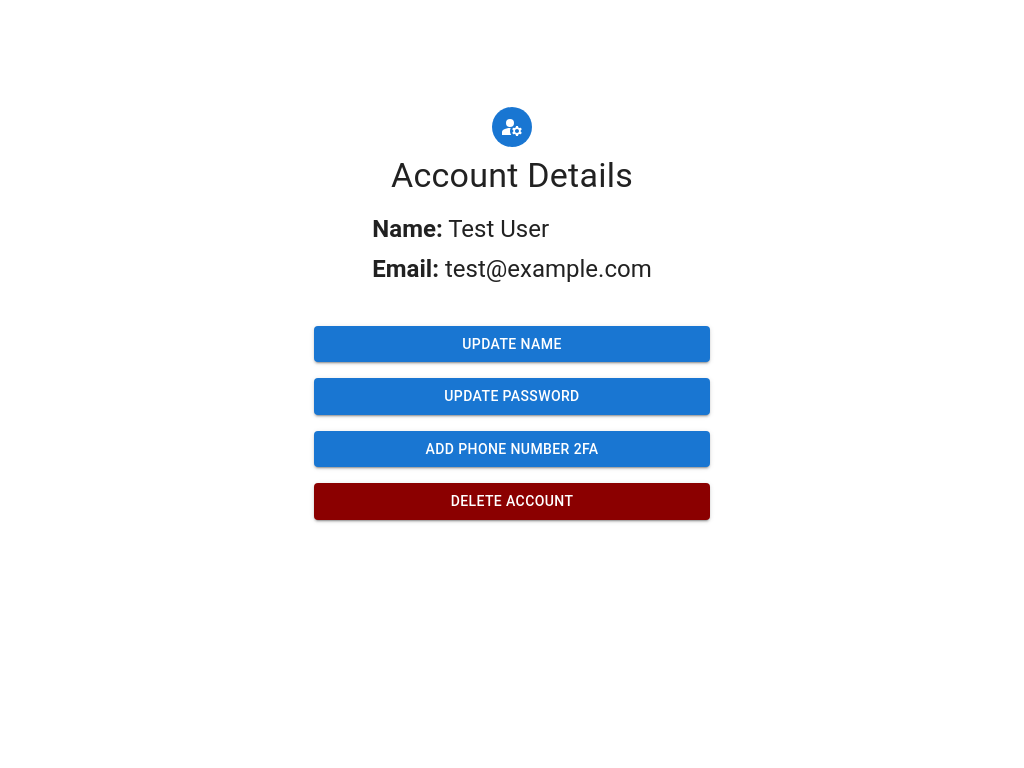
Test: AccountDetails component › updates password on button click
This screenshot has width=1024, height=768.
Click the button "Update Password".
click(512, 397)  # box [314, 378, 710, 415]
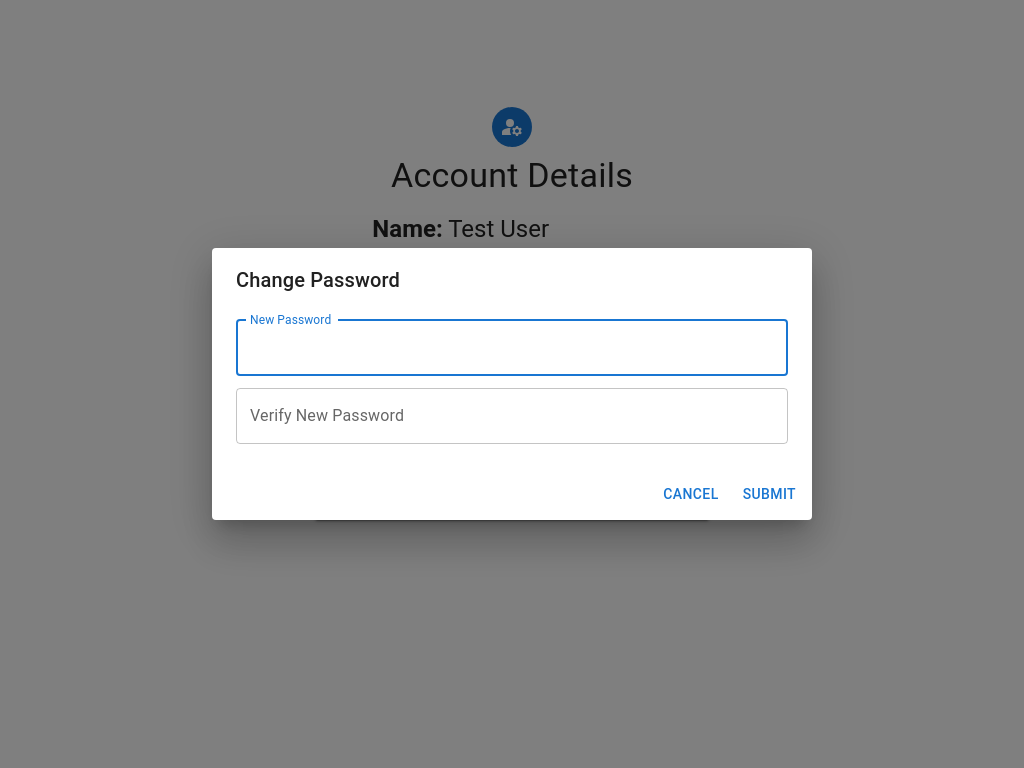
Result: the heading "Change Password" is shown at [236, 268, 400, 292]
